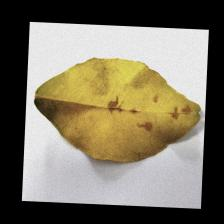black spot: (100, 85, 204, 131)
